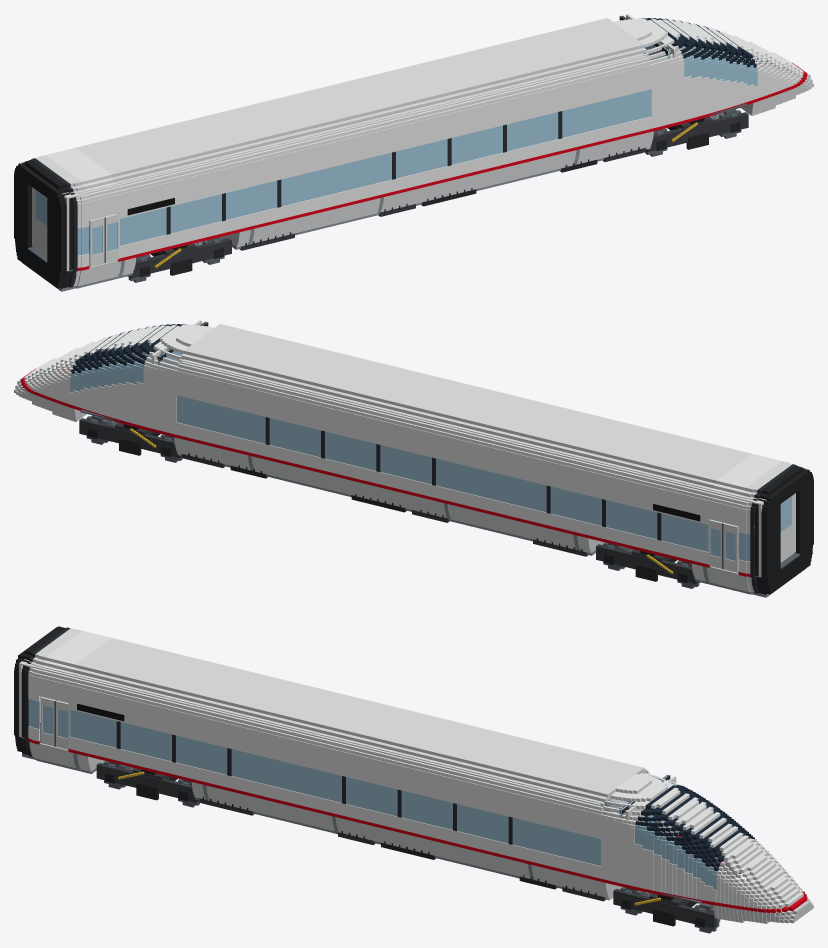
File: ice3_front.obj
3 views of the same model, one above another, from view 1: azimuth 30°, elevation 25°; view 2: azimuth 150°, elevation 25°; view 3: azimuth 330°, elevation 25° (orthographic).
Visible parts, largest first — view 1: SHELL, SHELL_diaphragm, SHELL_ceiling, BOGEY_FRONT, BOGEY_REAR, FRAME, CONNECTING_DOOR_1_CG_CR_TOGGLE_TL_0.98_Z, EXTERNAL_DOOR_3_CG_DR1_TOGGLE_TL_-0.44_X, EXTERNAL_DOOR_4_CG_DR1_TOGGLE_TL_0.44_X; view 2: SHELL, SHELL_diaphragm, SHELL_ceiling, BOGEY_FRONT, BOGEY_REAR, FRAME, CONNECTING_DOOR_1_CG_CR_TOGGLE_TL_0.98_Z, EXTERNAL_DOOR_6_CG_DL1_TOGGLE_TL_-0.44_X, EXTERNAL_DOOR_7_CG_DL1_TOGGLE_TL_0.44_X; view 3: SHELL, SHELL_ceiling, BOGEY_FRONT, BOGEY_REAR, FRAME, EXTERNAL_DOOR_3_CG_DR1_TOGGLE_TL_-0.44_X, EXTERNAL_DOOR_4_CG_DR1_TOGGLE_TL_0.44_X.
Boxes of the visible parts, bbox=[...] form: SHELL: bbox=[22, 18, 813, 291]; SHELL_diaphragm: bbox=[14, 163, 65, 288]; SHELL_ceiling: bbox=[21, 53, 647, 198]; BOGEY_FRONT: bbox=[646, 112, 748, 152]; BOGEY_REAR: bbox=[129, 238, 231, 278]; FRAME: bbox=[239, 147, 646, 250]; CONNECTING_DOOR_1_CG_CR_TOGGLE_TL_0.98_Z: bbox=[34, 189, 47, 256]; EXTERNAL_DOOR_3_CG_DR1_TOGGLE_TL_-0.44_X: bbox=[89, 217, 105, 266]; EXTERNAL_DOOR_4_CG_DR1_TOGGLE_TL_0.44_X: bbox=[105, 213, 119, 262]; SHELL: bbox=[14, 324, 805, 597]; SHELL_diaphragm: bbox=[762, 469, 813, 594]; SHELL_ceiling: bbox=[180, 359, 806, 504]; BOGEY_FRONT: bbox=[79, 418, 181, 458]; BOGEY_REAR: bbox=[596, 544, 698, 584]; FRAME: bbox=[181, 453, 588, 556]; CONNECTING_DOOR_1_CG_CR_TOGGLE_TL_0.98_Z: bbox=[780, 495, 793, 562]; EXTERNAL_DOOR_6_CG_DL1_TOGGLE_TL_-0.44_X: bbox=[722, 523, 738, 572]; EXTERNAL_DOOR_7_CG_DL1_TOGGLE_TL_0.44_X: bbox=[708, 519, 722, 568]; SHELL: bbox=[18, 626, 813, 923]; SHELL_ceiling: bbox=[21, 660, 604, 805]; BOGEY_FRONT: bbox=[613, 889, 716, 928]; BOGEY_REAR: bbox=[96, 763, 199, 802]; FRAME: bbox=[199, 797, 605, 901]; EXTERNAL_DOOR_3_CG_DR1_TOGGLE_TL_-0.44_X: bbox=[40, 697, 56, 746]; EXTERNAL_DOOR_4_CG_DR1_TOGGLE_TL_0.44_X: bbox=[55, 700, 70, 749].
Size of the model in its own units: 25.96 by 3.85 by 2.97.
Materials: 1 (1 with a texture image).
